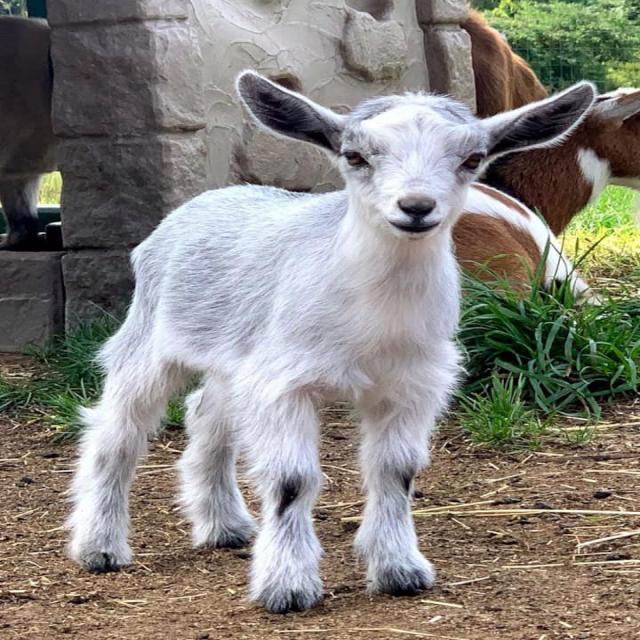goat: (68, 71, 596, 613)
